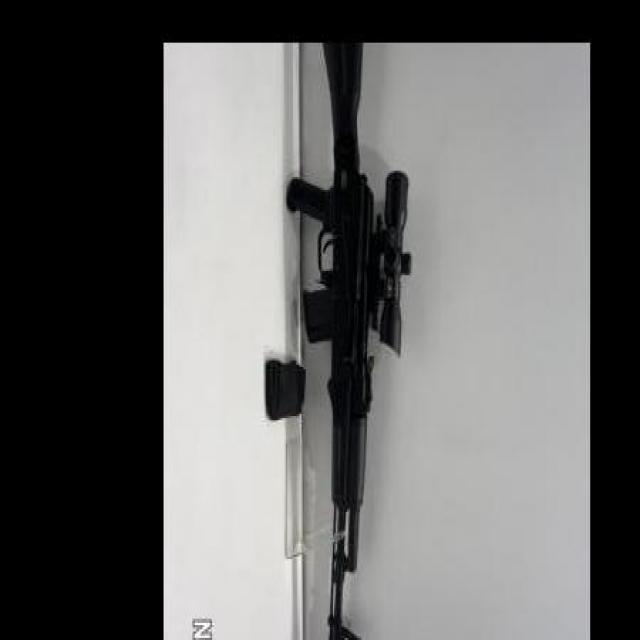weapon: (284, 41, 413, 640)
